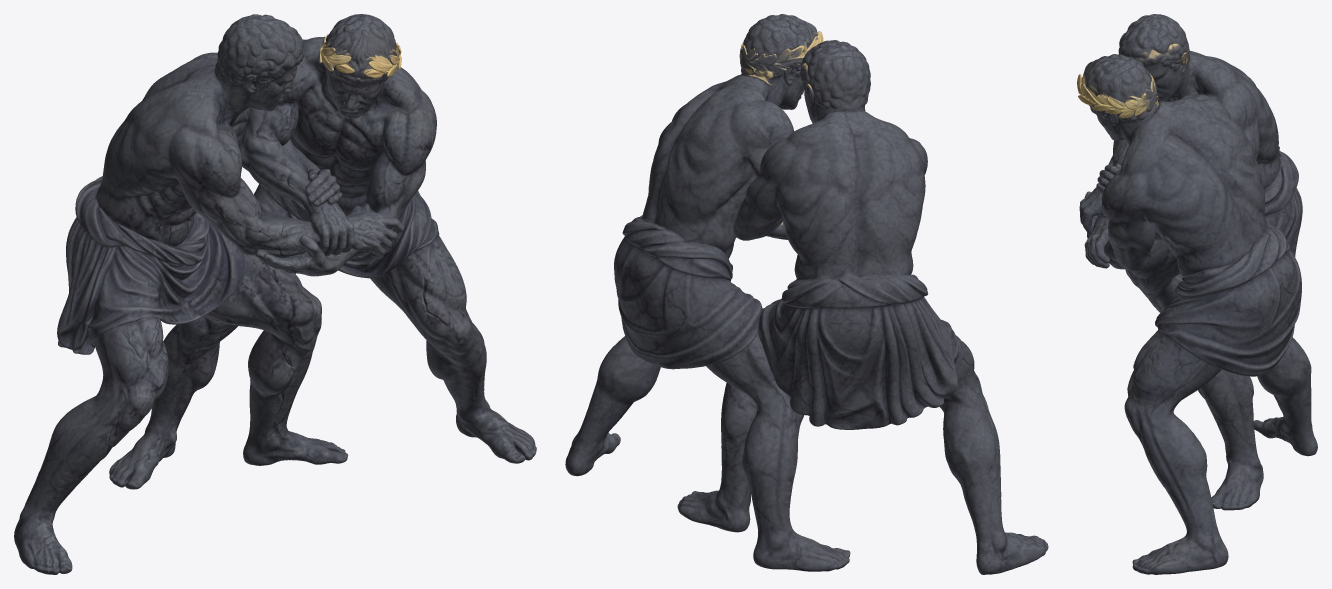
File: СТАТУЯ на гл 2-compressed.glb
3 renders of one model, left to right at view 1: azimuth 30°, elevation 25°; view 2: azimuth 150°, elevation 25°; view 3: azimuth 270°, elevation 25°, orthographic. The views are drawn at different scales.
Bounding box in the file's own units: 1.9 × 1.8 × 0.8863.
1 material, 1 textured.
